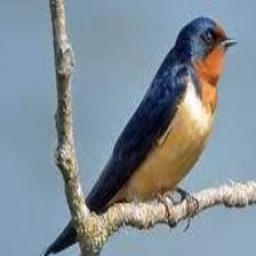Swallow: (3, 16, 237, 256)
